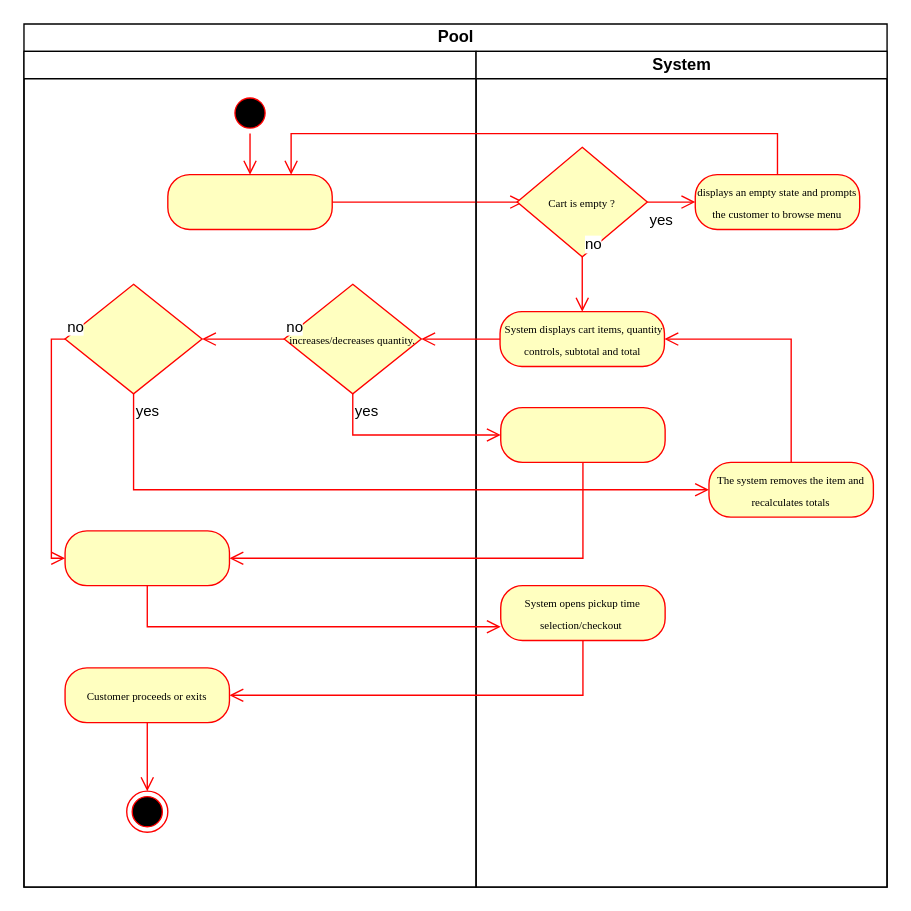
Image size: 911x911. Some labels were removed from this diagram. The shapes that lost their labels are listed below. From the top down, each one's box as (x1, y1, x2, y2) in pixels, then its label:
(166, 173, 332, 229): Customer opens the Cart screen.
(64, 283, 202, 394): Remove item directly ?
(499, 406, 665, 462): System updates totals immediately
(23, 50, 476, 887): Actor
(64, 530, 229, 586): Customer clicks “Checkout”.
